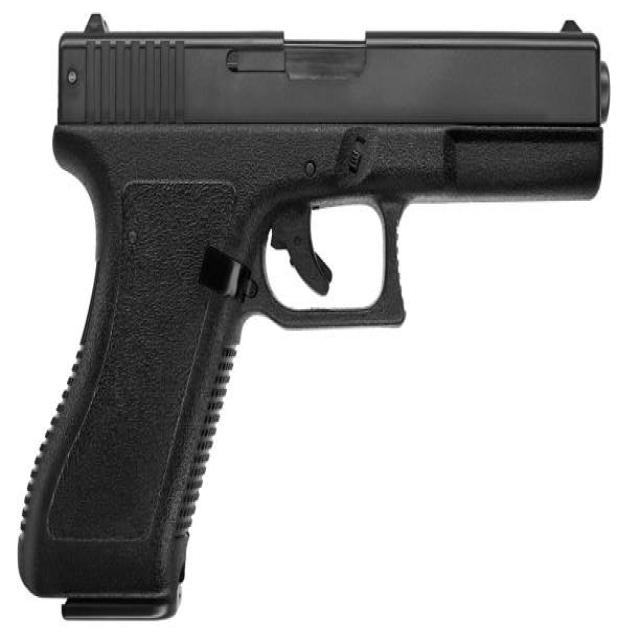pistol: (13, 9, 617, 634)
